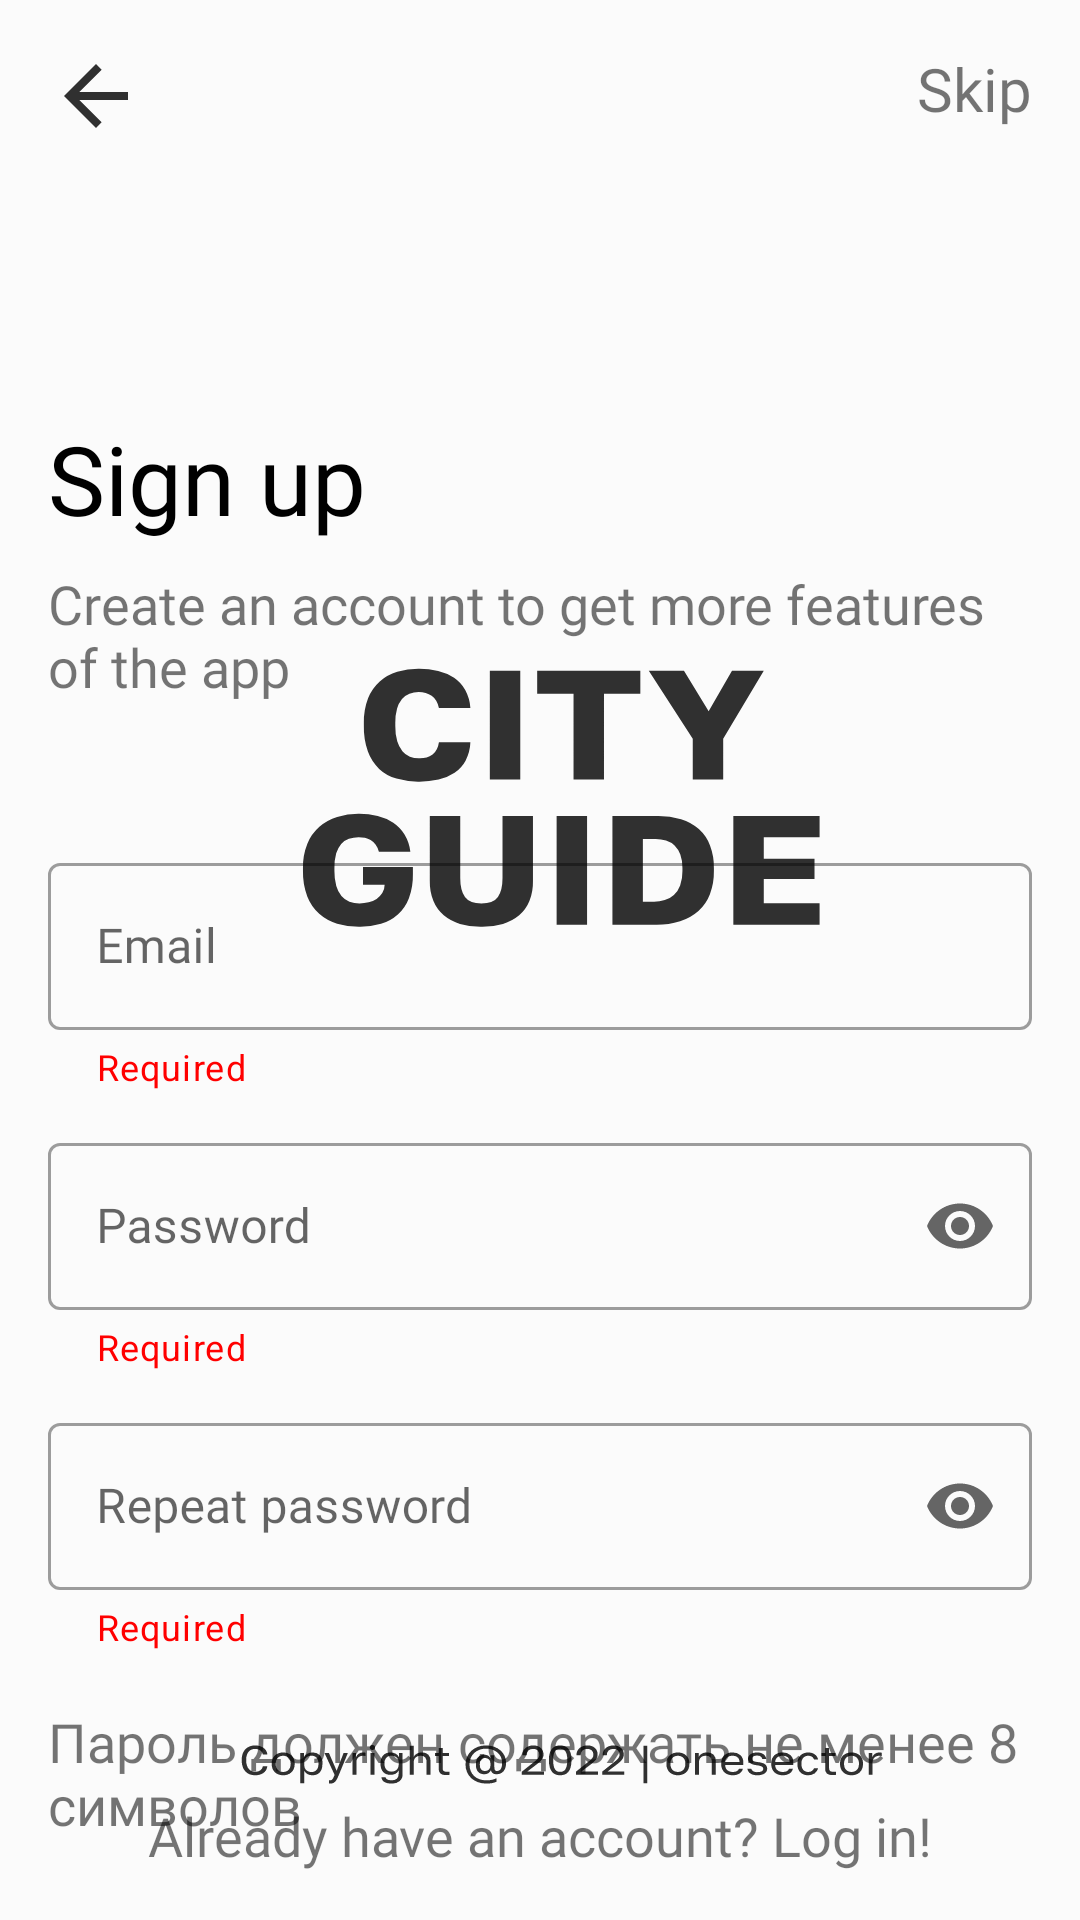

Icon click points for this 1080 × 1920 phone screenshot, format [x,y]:
back: [96,96]
